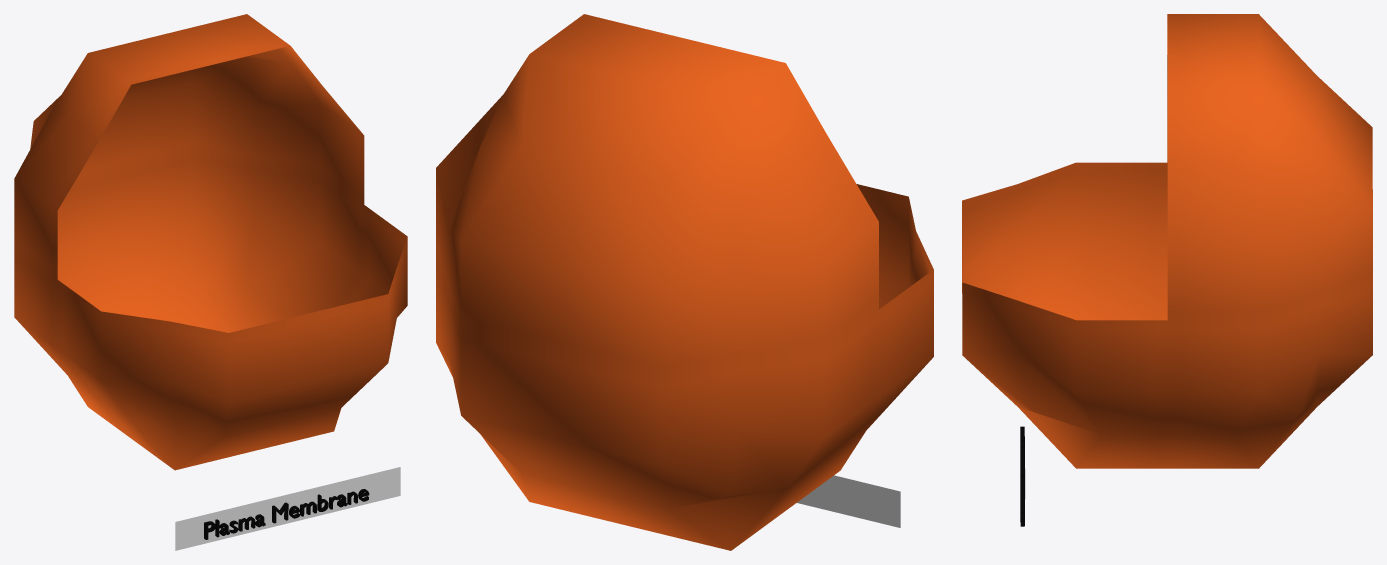
Rendered from plasma1.gltf.
3 views of the same model, side by side, from view 1: azimuth 30°, elevation 25°; view 2: azimuth 150°, elevation 25°; view 3: azimuth 270°, elevation 25° (orthographic). The views are drawn at different scales.
Parts seen in each view (by area): view 1: Outside.002, Plane.033, Text.018; view 2: Outside.002, Plane.033; view 3: Outside.002, Text.018.
Boxes of the visible parts, x1=… form: Outside.002: x1=14, y1=14, x2=407, y2=470; Plane.033: x1=175, y1=467, x2=400, y2=550; Text.018: x1=204, y1=489, x2=369, y2=539; Outside.002: x1=436, y1=14, x2=933, y2=550; Plane.033: x1=797, y1=475, x2=900, y2=527; Outside.002: x1=962, y1=14, x2=1372, y2=468; Text.018: x1=1020, y1=426, x2=1024, y2=526.
Size of the model in its own units: 2.69 by 3.45 by 2.96.
